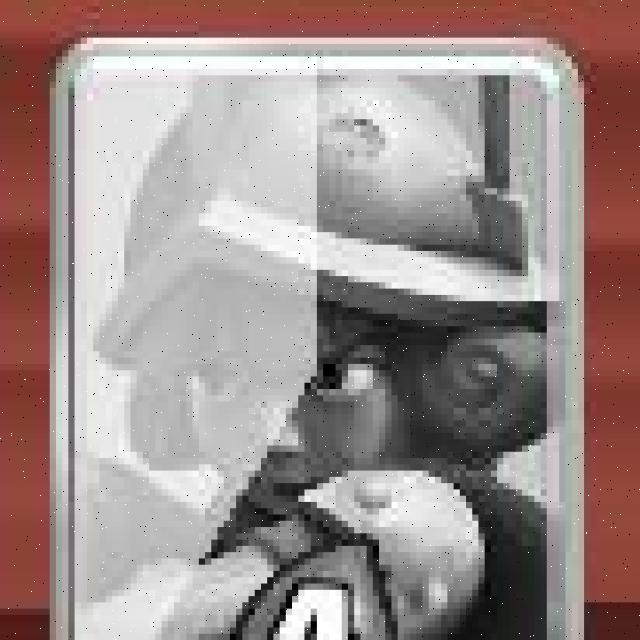Musketeer: (62, 38, 586, 638)
